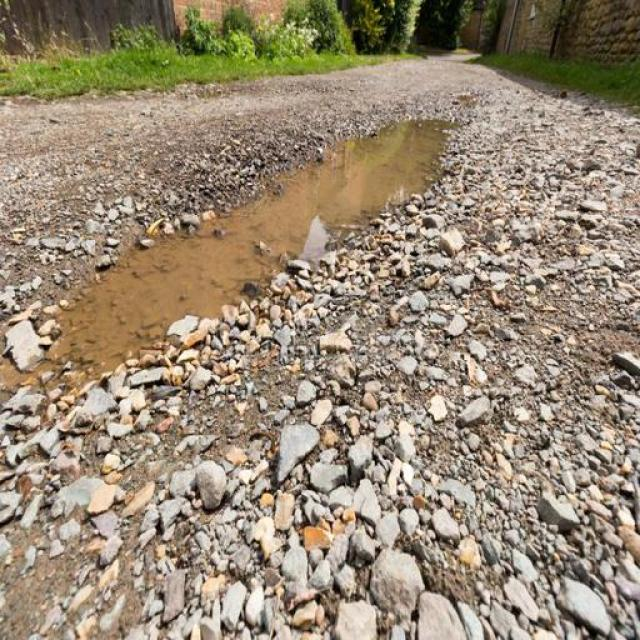puddle: (93, 236, 264, 298), (313, 137, 428, 216), (223, 195, 356, 253)
